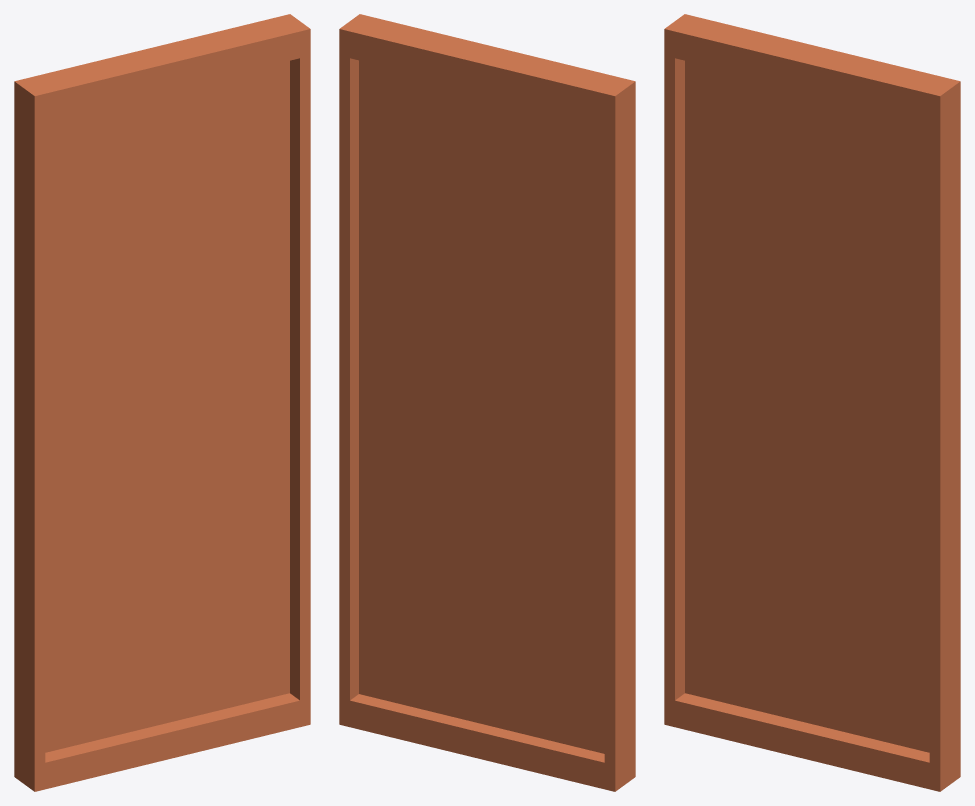
The model's file is Door.glb.
The picture shows the model from 3 angles, left to right: view 1: azimuth 30°, elevation 25°; view 2: azimuth 150°, elevation 25°; view 3: azimuth 330°, elevation 25°; orthographic projection.
Parts seen in each view (by area): view 1: Cube.179; view 2: Cube.179; view 3: Cube.179.
Part boxes in pixels (box(x1,y1,x2,y2)): Cube.179: box(14, 14, 310, 791); Cube.179: box(339, 14, 635, 791); Cube.179: box(664, 14, 960, 791).
Bounding box in the file's own units: 0.8271 × 1.99 × 0.1062.
